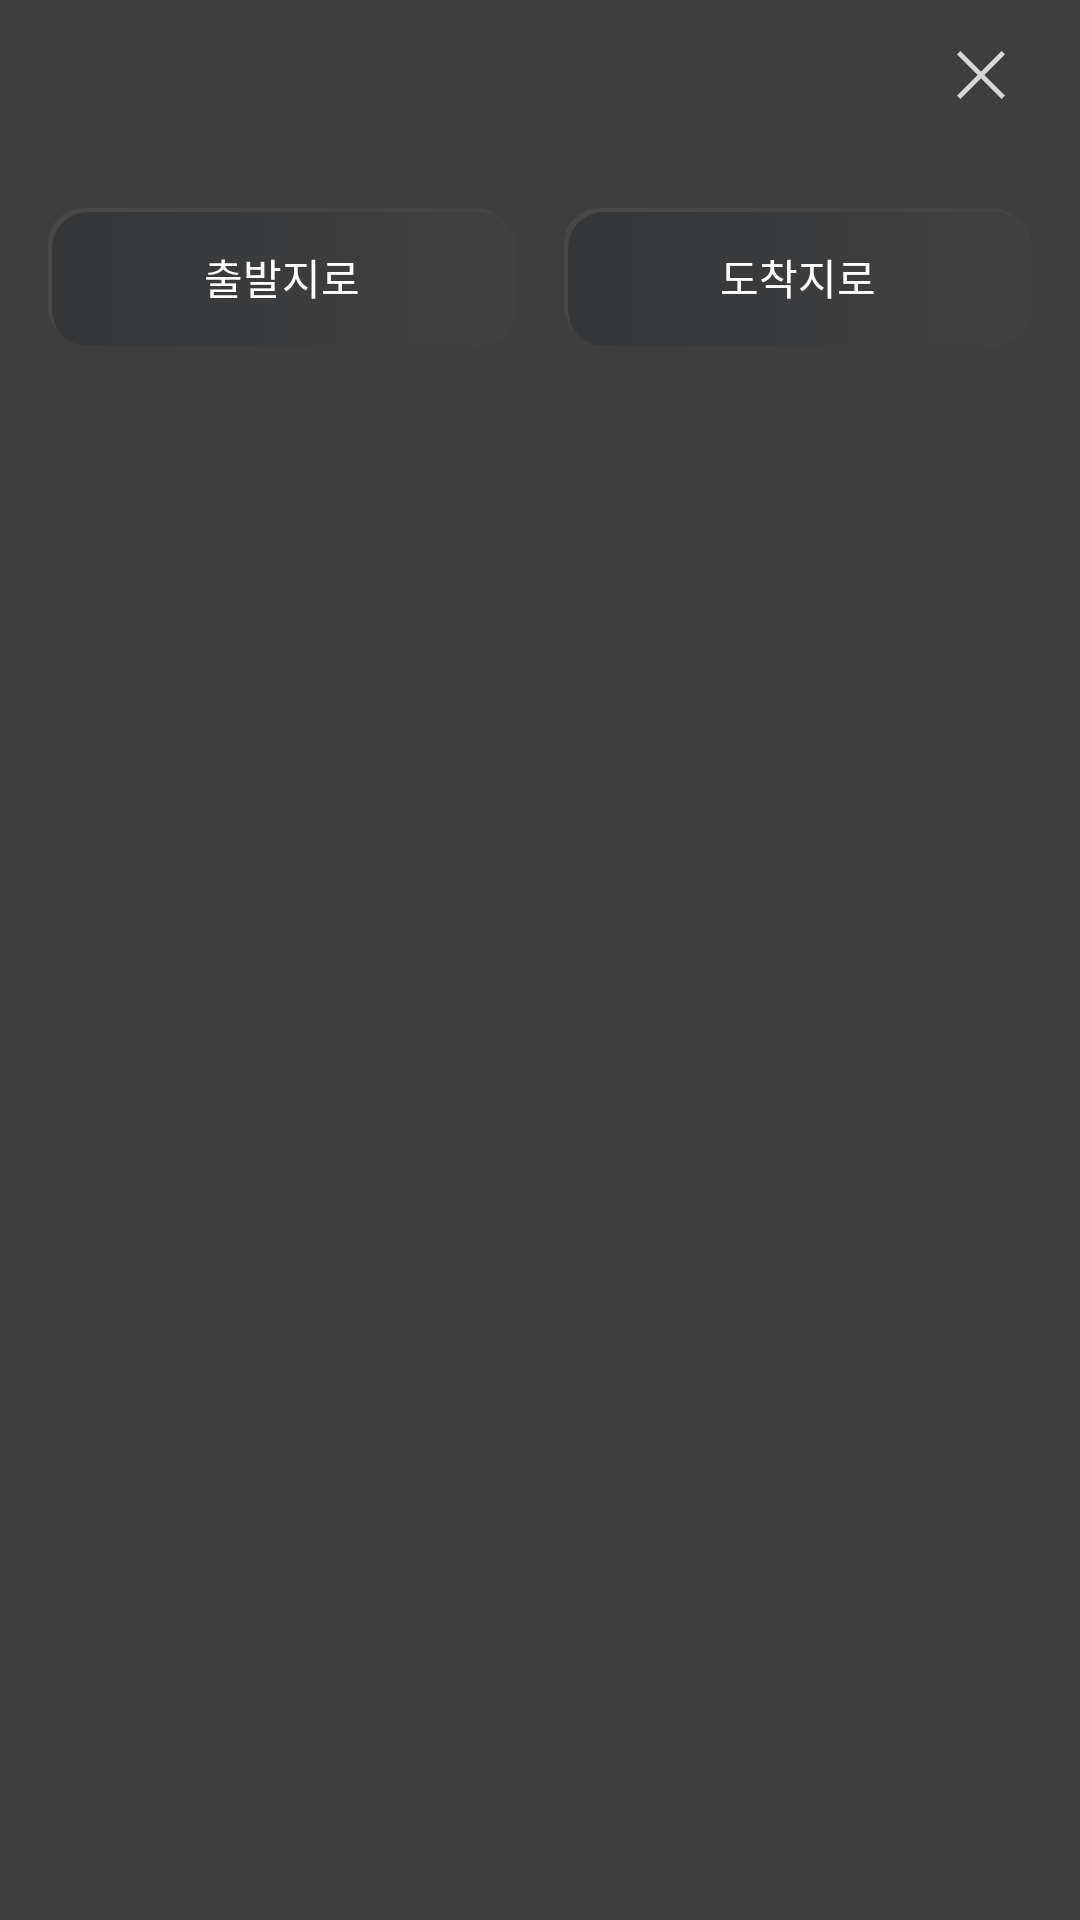

Icons on this 1080px x 1920px Android screen, each with its box as (left=x1, top=y1, right=x2, bottom=y2):
close: (left=957, top=51, right=1005, bottom=99)
